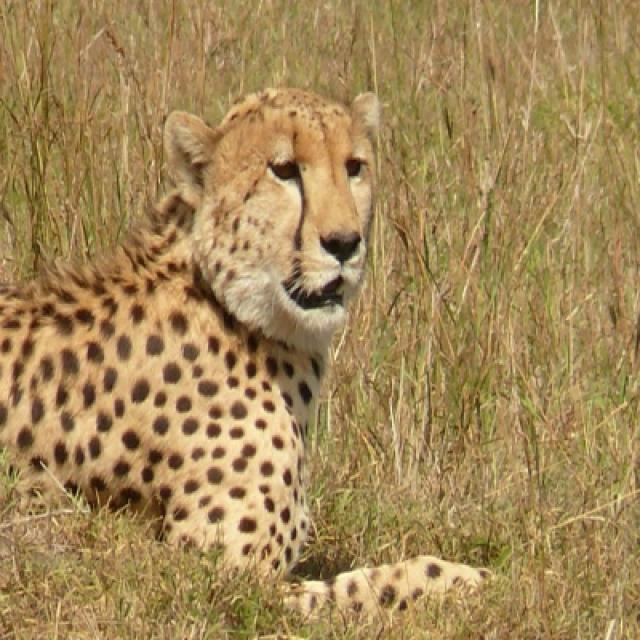Cheetah: (0, 88, 382, 581), (304, 557, 488, 613)
